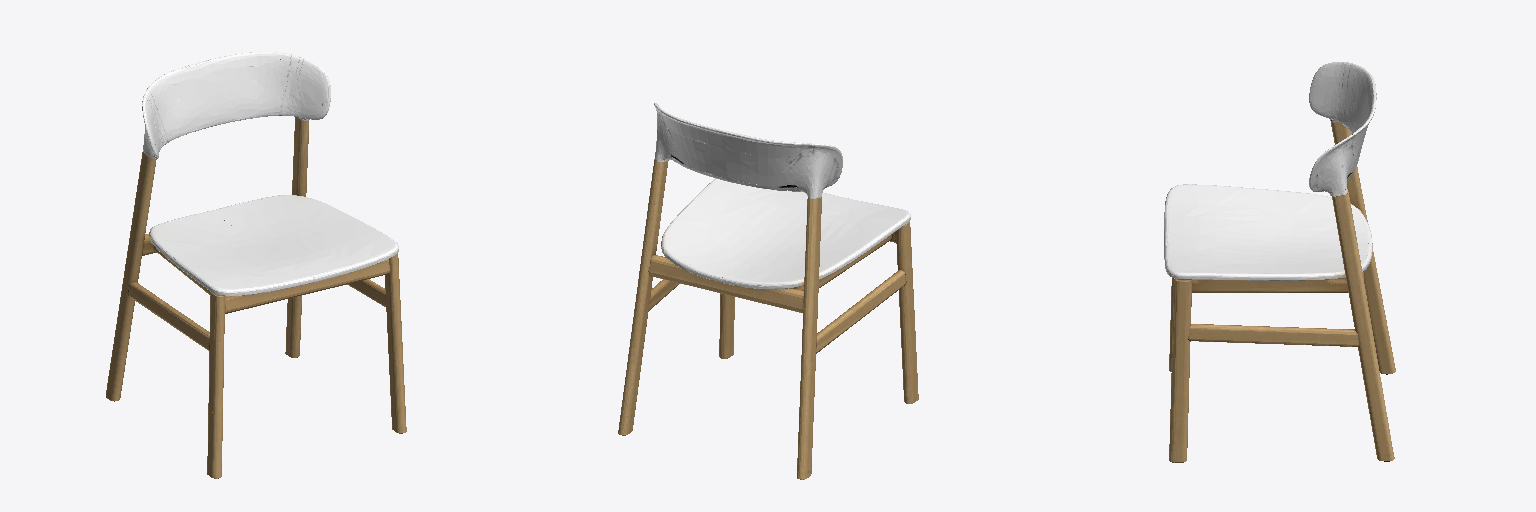
3 views of the same model, side by side, from view 1: azimuth 30°, elevation 25°; view 2: azimuth 150°, elevation 25°; view 3: azimuth 270°, elevation 25° (orthographic).
Parts seen in each view (by area): view 1: solid_005, solid_001; view 2: solid_005, solid_001; view 3: solid_005, solid_001.
Boxes of the visible parts, x1,y1,x2,y2 form: solid_005: [142, 52, 398, 295]; solid_001: [106, 117, 406, 478]; solid_005: [654, 103, 910, 288]; solid_001: [618, 159, 918, 479]; solid_005: [1164, 62, 1376, 280]; solid_001: [1169, 120, 1395, 462].
Bounding box in the file's own units: 0.5727 × 0.9048 × 0.5915.
Materials: 1 (1 with a texture image).